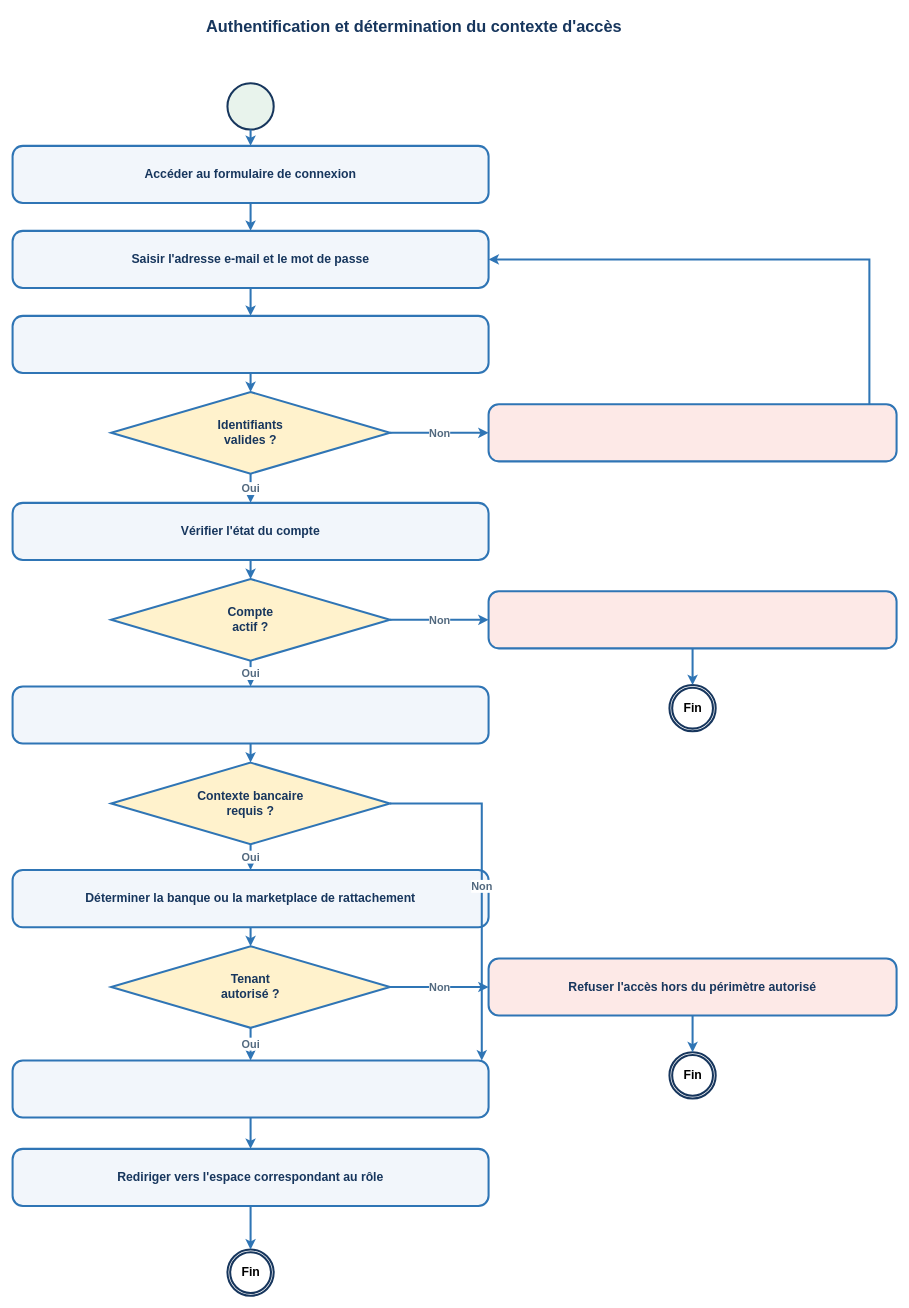
This 909x1308 diagram has some shape labels left out. The centre of each missing label's shape, as x and y in pixels:
"Afficher l'erreur et corriger les identifiants" goes at point 692,432.
"Charger le rôle et contrôler les autorisations" goes at point 250,714.
"Créer la session authentifiée avec le contexte d'accès" goes at point 250,1088.
"Début" goes at point 250,106.
"Refuser l'accès au compte inactif" goes at point 692,619.
"Vérifier les identifiants" goes at point 250,344.
